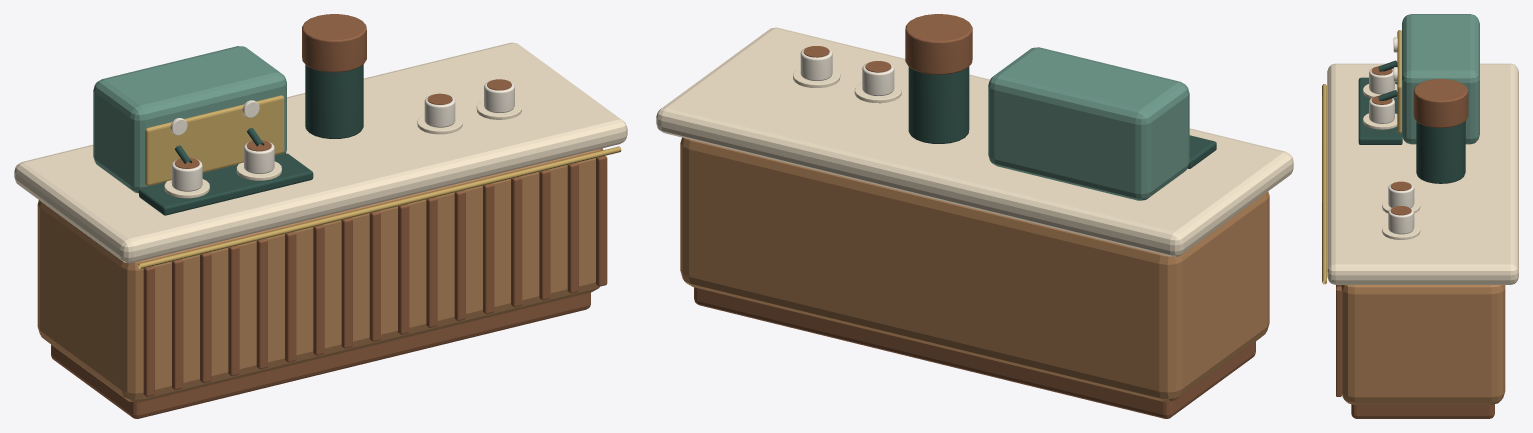
File: cafe-counter.glb
3 views of the same model, side by side, from view 1: azimuth 30°, elevation 25°; view 2: azimuth 150°, elevation 25°; view 3: azimuth 270°, elevation 25° (orthographic). The views are drawn at different scales.
Visible parts, largest first — view 1: cafe-counter / Oak, cafe-counter / Ivory stone, cafe-counter / Oak endgrain, cafe-counter / Sea glass upholstery, cafe-counter / Brass, cafe-counter / Dark hardware, cafe-counter / Warm linen; view 2: cafe-counter / Oak, cafe-counter / Ivory stone, cafe-counter / Sea glass upholstery, cafe-counter / Oak endgrain, cafe-counter / Dark hardware, cafe-counter / Warm linen; view 3: cafe-counter / Ivory stone, cafe-counter / Oak, cafe-counter / Sea glass upholstery, cafe-counter / Oak endgrain, cafe-counter / Dark hardware, cafe-counter / Warm linen, cafe-counter / Brass.
Part boxes in pixels (x1,y1,x2,y2): cafe-counter / Oak: (37,148,602,402); cafe-counter / Ivory stone: (14,42,627,263); cafe-counter / Oak endgrain: (51,14,607,418); cafe-counter / Sea glass upholstery: (93,46,286,193); cafe-counter / Brass: (138,95,621,269); cafe-counter / Dark hardware: (139,64,363,215); cafe-counter / Warm linen: (170,81,514,191); cafe-counter / Oak: (680,137,1269,401); cafe-counter / Ivory stone: (656,27,1293,256); cafe-counter / Sea glass upholstery: (988,47,1189,200); cafe-counter / Oak endgrain: (694,14,1255,418); cafe-counter / Dark hardware: (908,66,1216,168); cafe-counter / Warm linen: (800,47,894,95); cafe-counter / Ivory stone: (1327,63,1518,284); cafe-counter / Oak: (1341,285,1505,404); cafe-counter / Sea glass upholstery: (1402,14,1479,144); cafe-counter / Oak endgrain: (1336,66,1494,418); cafe-counter / Dark hardware: (1358,60,1465,183); cafe-counter / Warm linen: (1369,37,1414,234); cafe-counter / Brass: (1322,30,1401,284).
Bounding box in the file's own units: 3.58 × 1.99 × 1.44.
